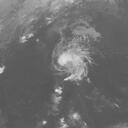cyclone: (51, 39, 93, 83)
